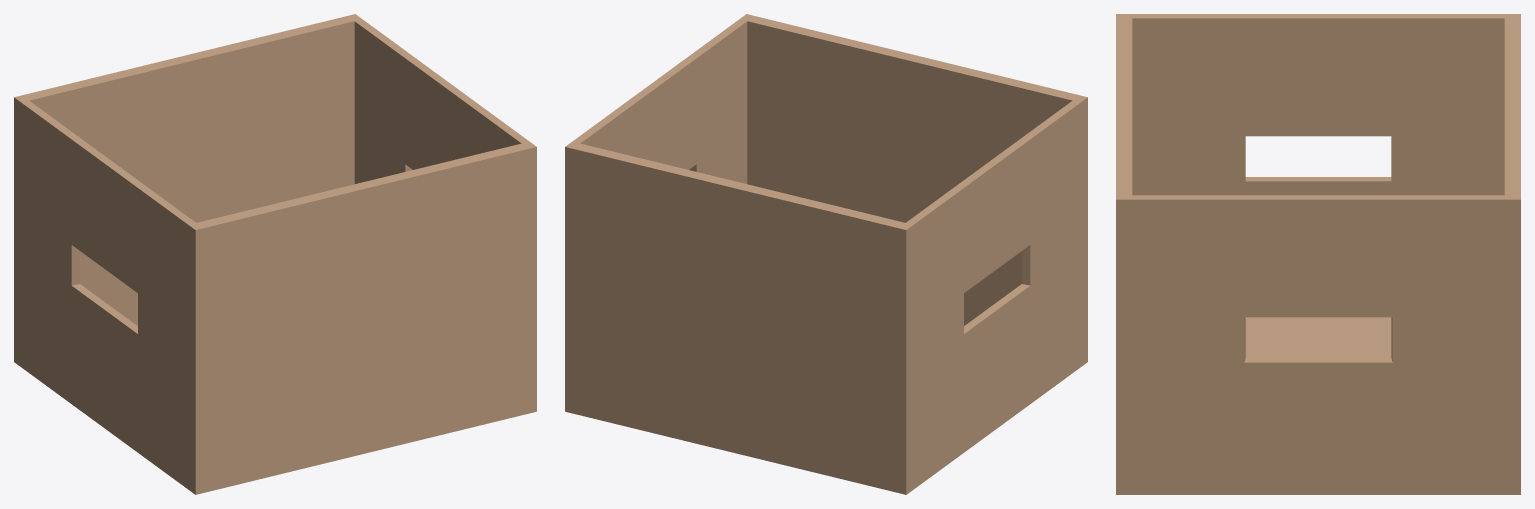
3 renders of one model, left to right at view 1: azimuth 30°, elevation 25°; view 2: azimuth 150°, elevation 25°; view 3: azimuth 270°, elevation 25°, orthographic. The views are drawn at different scales.
Parts seen in each view (by area): view 1: box1; view 2: box1; view 3: box1.
Boxes of the visible parts, x1=… form: box1: x1=14, y1=14, x2=536, y2=494; box1: x1=565, y1=14, x2=1087, y2=494; box1: x1=1116, y1=14, x2=1520, y2=494.
Size of the model in its own units: 2.23 by 1.66 by 2.06.
